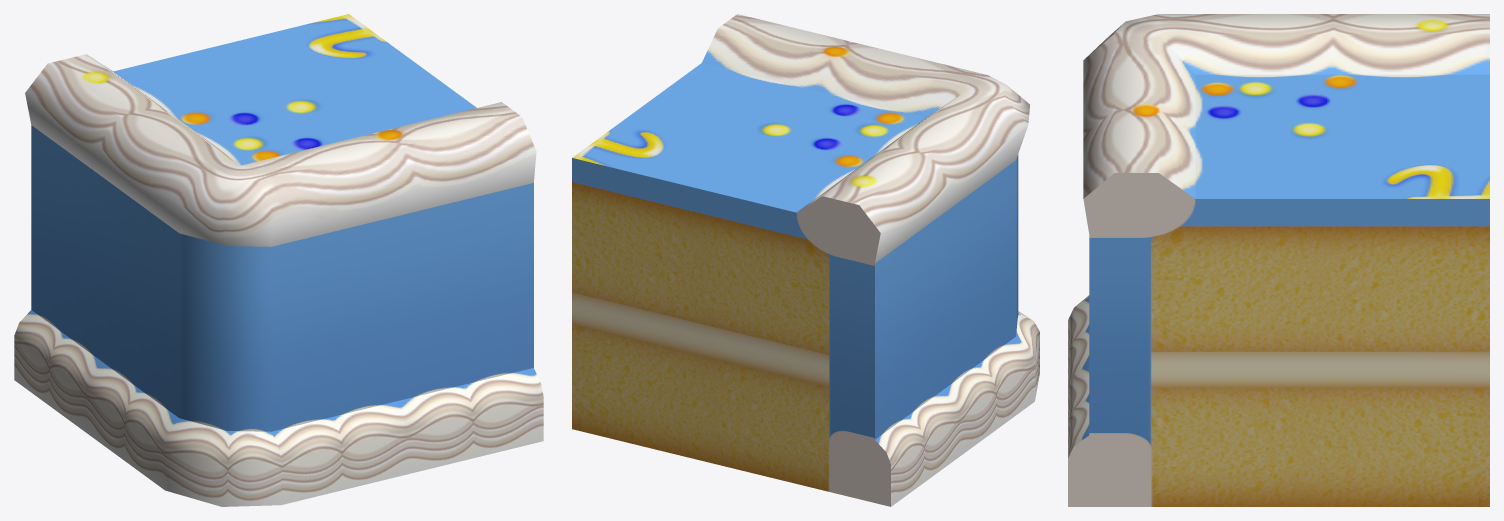
The model's file is SheetCake_01_Slice_01.fbx.
3 views of the same model, side by side, from view 1: azimuth 30°, elevation 25°; view 2: azimuth 150°, elevation 25°; view 3: azimuth 270°, elevation 25° (orthographic). The views are drawn at different scales.
Parts seen in each view (by area): view 1: SheetCake_01_Slice_01; view 2: SheetCake_01_Slice_01; view 3: SheetCake_01_Slice_01.
Boxes of the visible parts, <box> form: SheetCake_01_Slice_01: <box>14,14,543,506</box>; SheetCake_01_Slice_01: <box>572,14,1039,506</box>; SheetCake_01_Slice_01: <box>1068,14,1489,506</box>.
Size of the model in its own units: 45.35 by 39.96 by 45.77.
